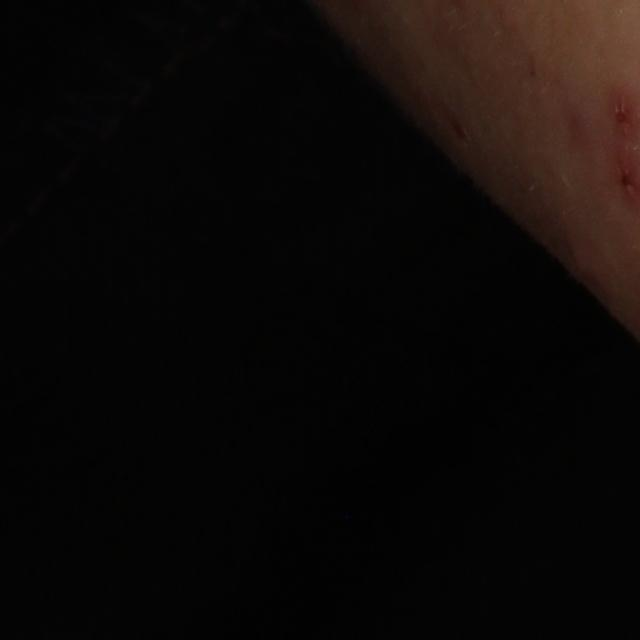papule: (611, 89, 637, 144)
